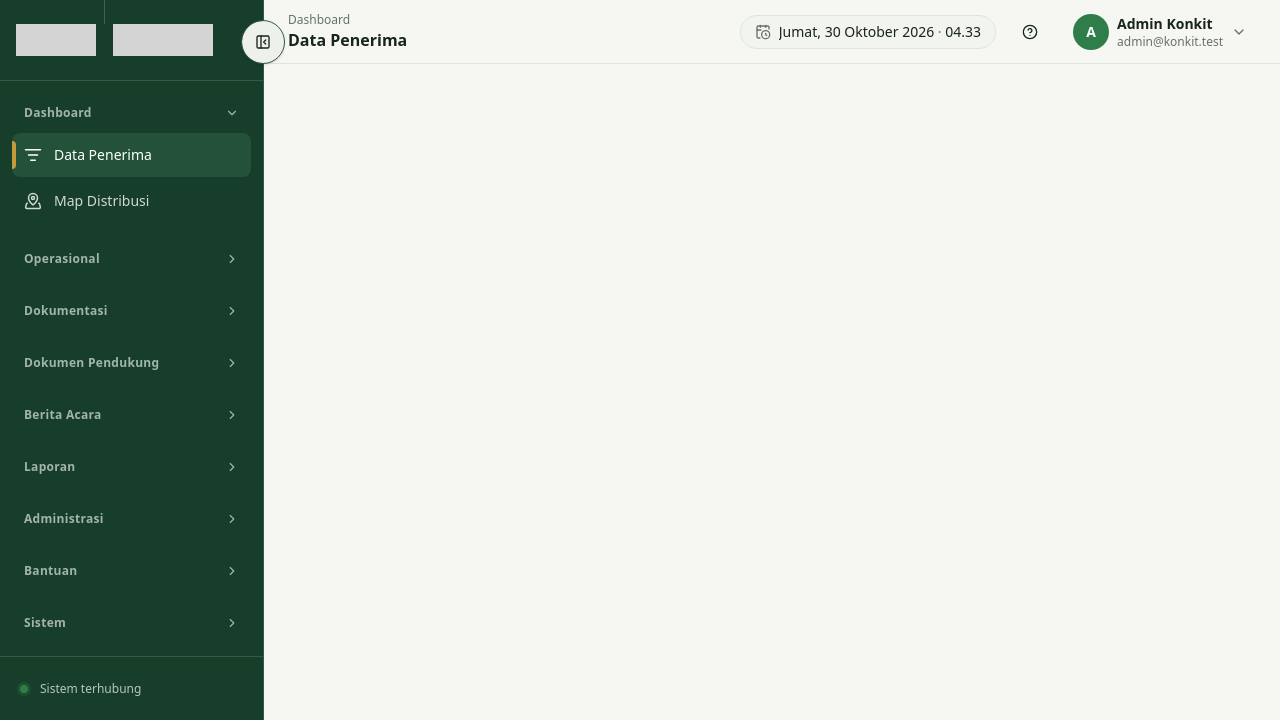
Test: AppShell › renders identity and permission-aware navigation
Expected: the text "Admin Konkit" is shown, [1117, 14, 1223, 34]
Expected: the button "Dashboard" is shown, [12, 97, 251, 129]
Click the button "Operasional" at (132, 259), box [12, 243, 251, 275]
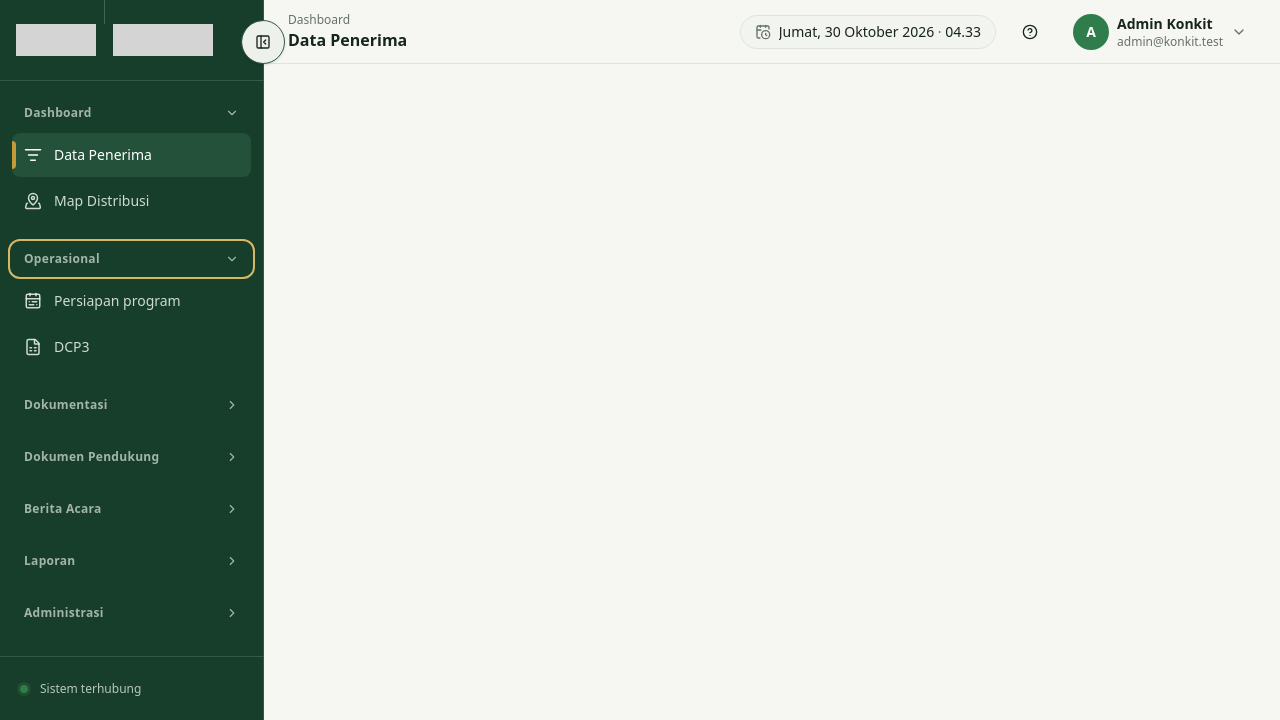
Expected: the link "DCP3" is shown, [24, 337, 90, 356]
Click the button "Dokumentasi" at (132, 405), box [12, 389, 251, 421]
(page scrolled)
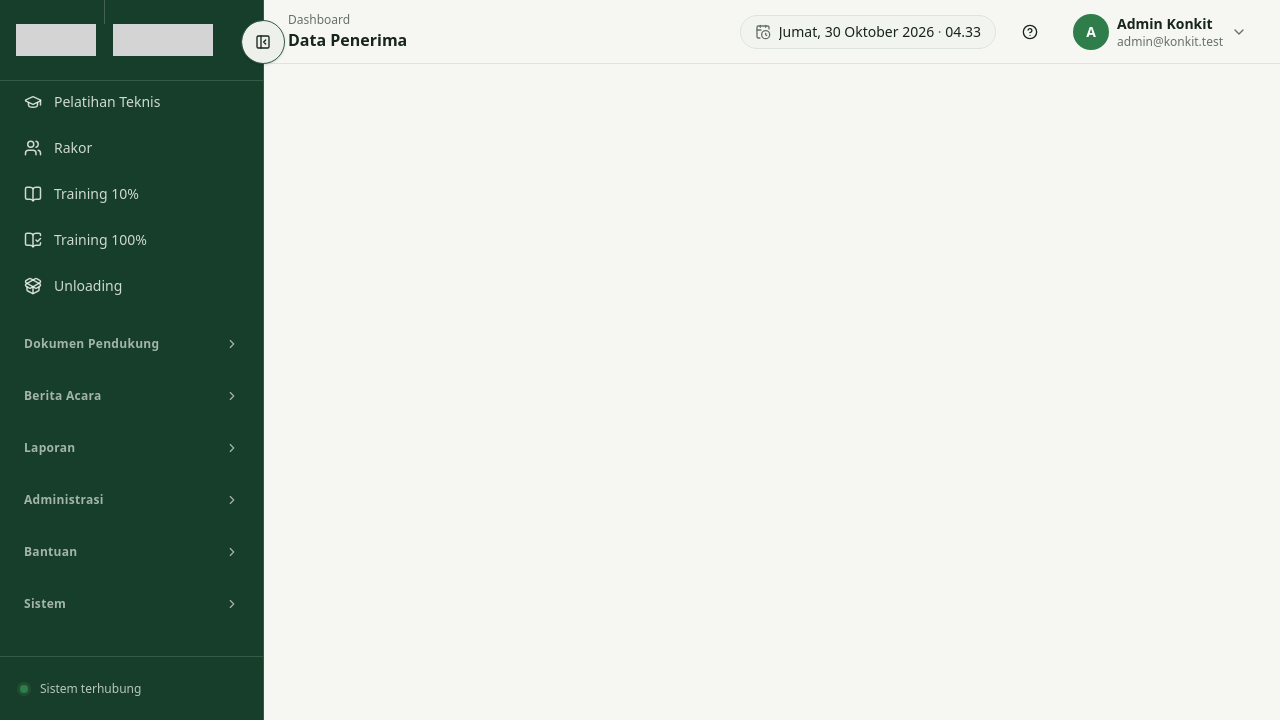
Click the button "Berita Acara" at (132, 396), box [12, 380, 251, 412]
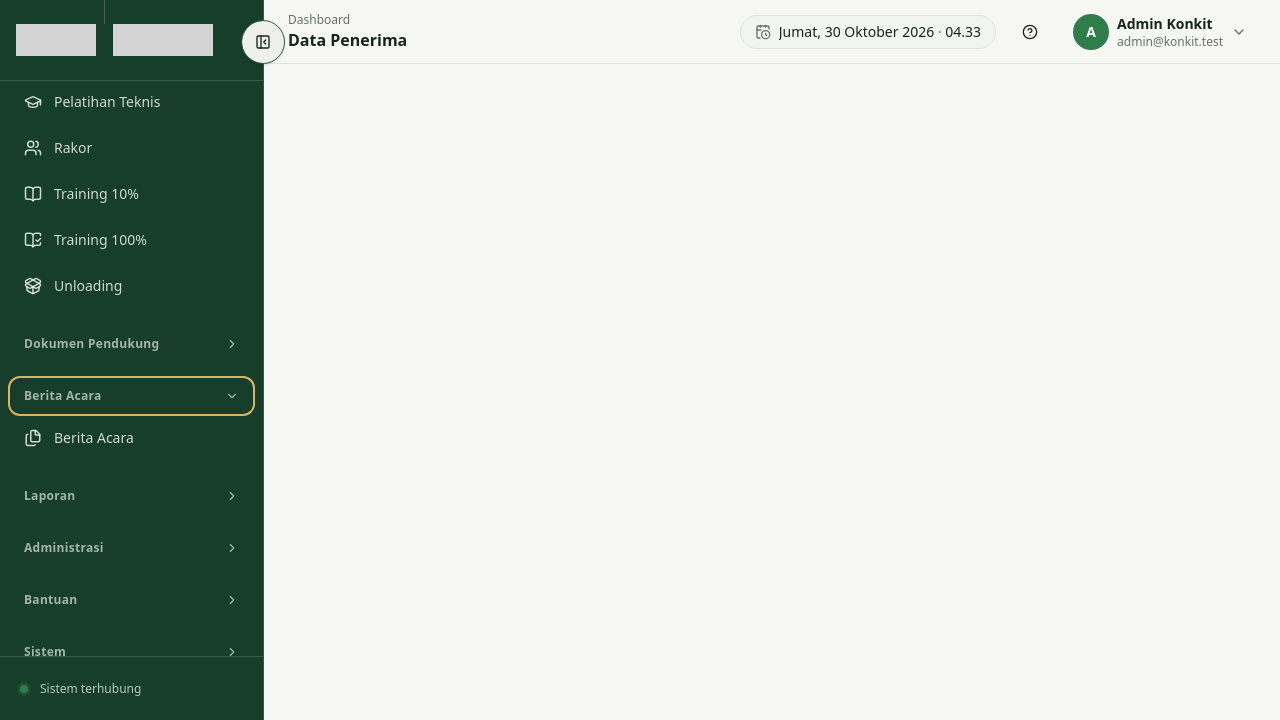
Click the button "Administrasi" at (132, 548), box [12, 532, 251, 564]
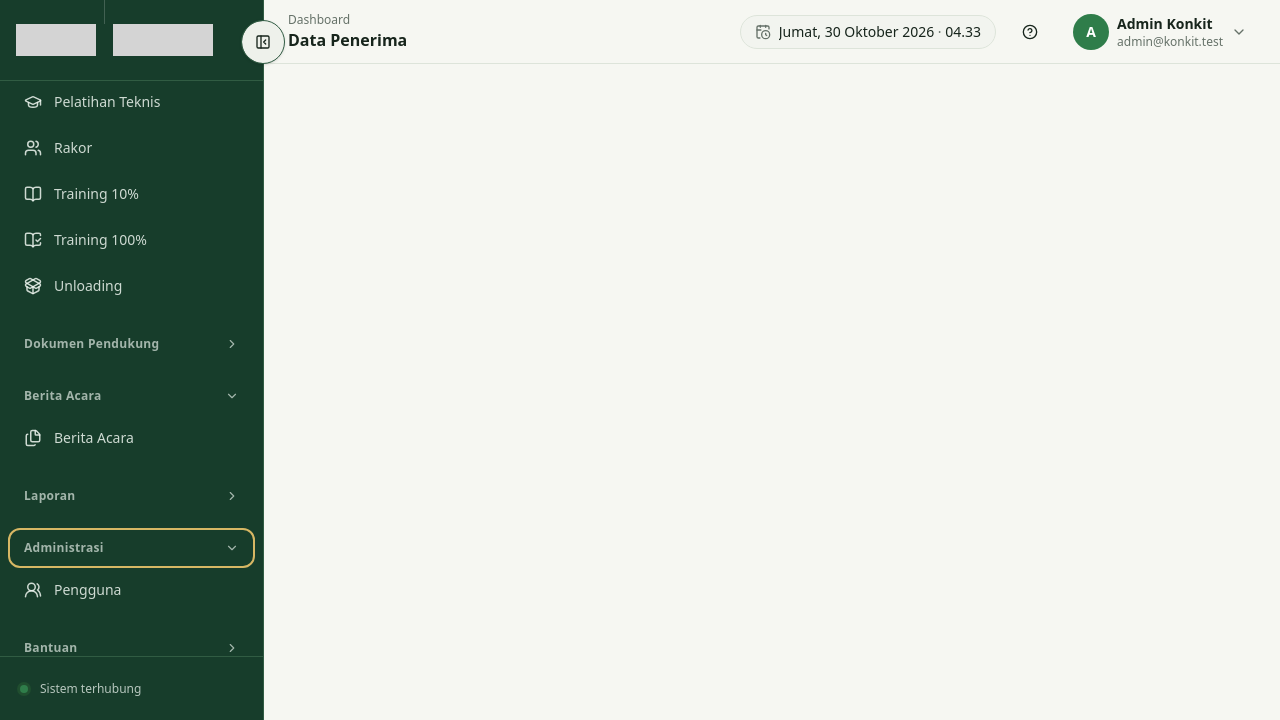
Expected: the link "Pengguna" is shown, [24, 580, 121, 599]
